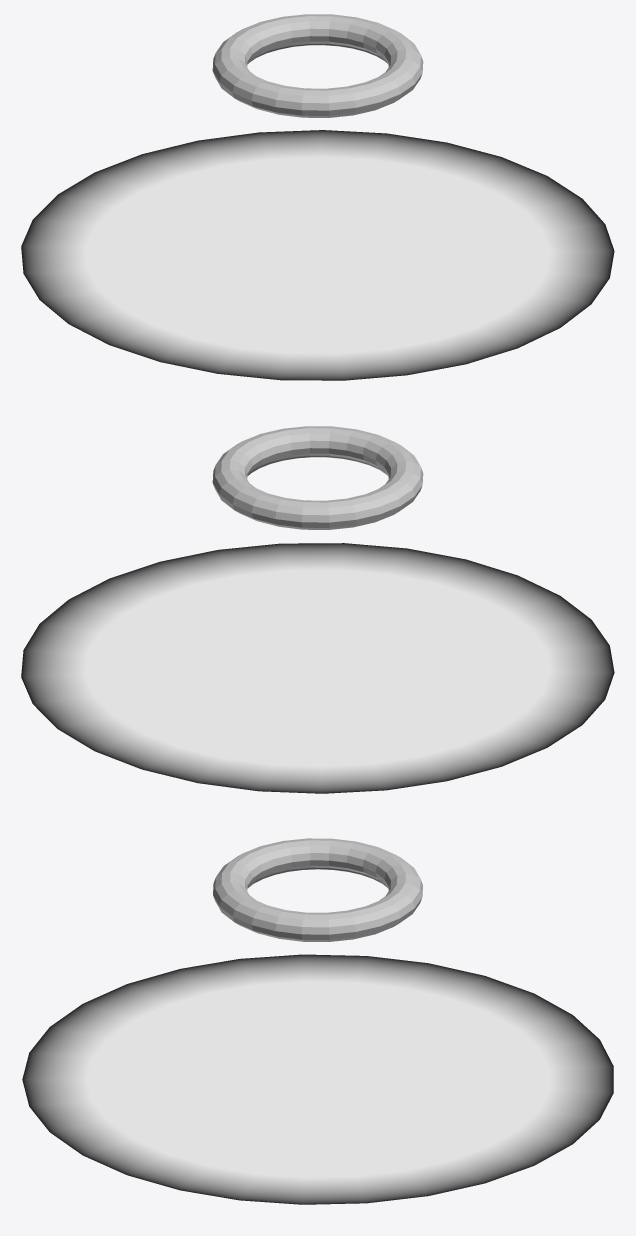
File: pref_TPC_v2_NeutralScoreArea03_winter_orange_frozen_15s_lv2.fbx
The picture shows the model from 3 angles, top to bottom: view 1: azimuth 30°, elevation 25°; view 2: azimuth 150°, elevation 25°; view 3: azimuth 270°, elevation 25°; orthographic projection.
Parts seen in each view (by area): view 1: dm_ice_1, ring; view 2: dm_ice_1, ring; view 3: dm_ice_1, ring.
Part boxes in pixels (<box>): dm_ice_1: <box>21,130,614,380</box>; ring: <box>212,14,423,117</box>; dm_ice_1: <box>21,543,614,793</box>; ring: <box>212,426,423,529</box>; dm_ice_1: <box>22,954,613,1204</box>; ring: <box>213,838,422,941</box>.
Size of the model in its own units: 7.46 by 2.92 by 7.46.
